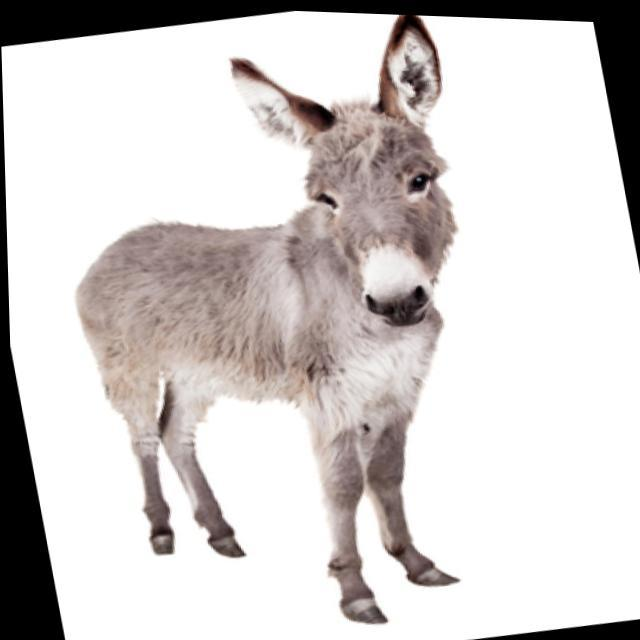Donkey: (28, 1, 538, 640)
